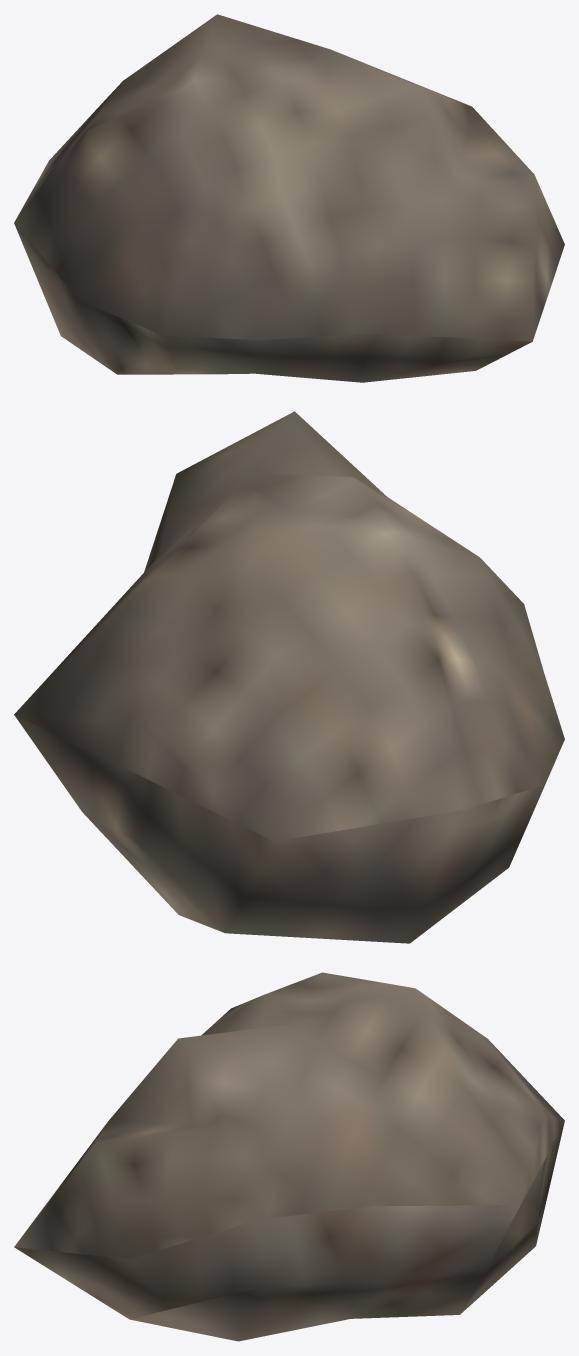
Rendered from rock_Small_001.fbx.
3 renders of one model, top to bottom at view 1: azimuth 30°, elevation 25°; view 2: azimuth 150°, elevation 25°; view 3: azimuth 270°, elevation 25°, orthographic. The views are drawn at different scales.
Parts seen in each view (by area): view 1: rock_Small.001; view 2: rock_Small.001; view 3: rock_Small.001.
Part boxes in pixels (box(x1,y1,x2,y2)): rock_Small.001: box(14, 14, 564, 382); rock_Small.001: box(14, 411, 564, 943); rock_Small.001: box(14, 972, 564, 1341).
Size of the model in its own units: 110 by 83.82 by 135.
Materials: 1 (1 with a texture image).
